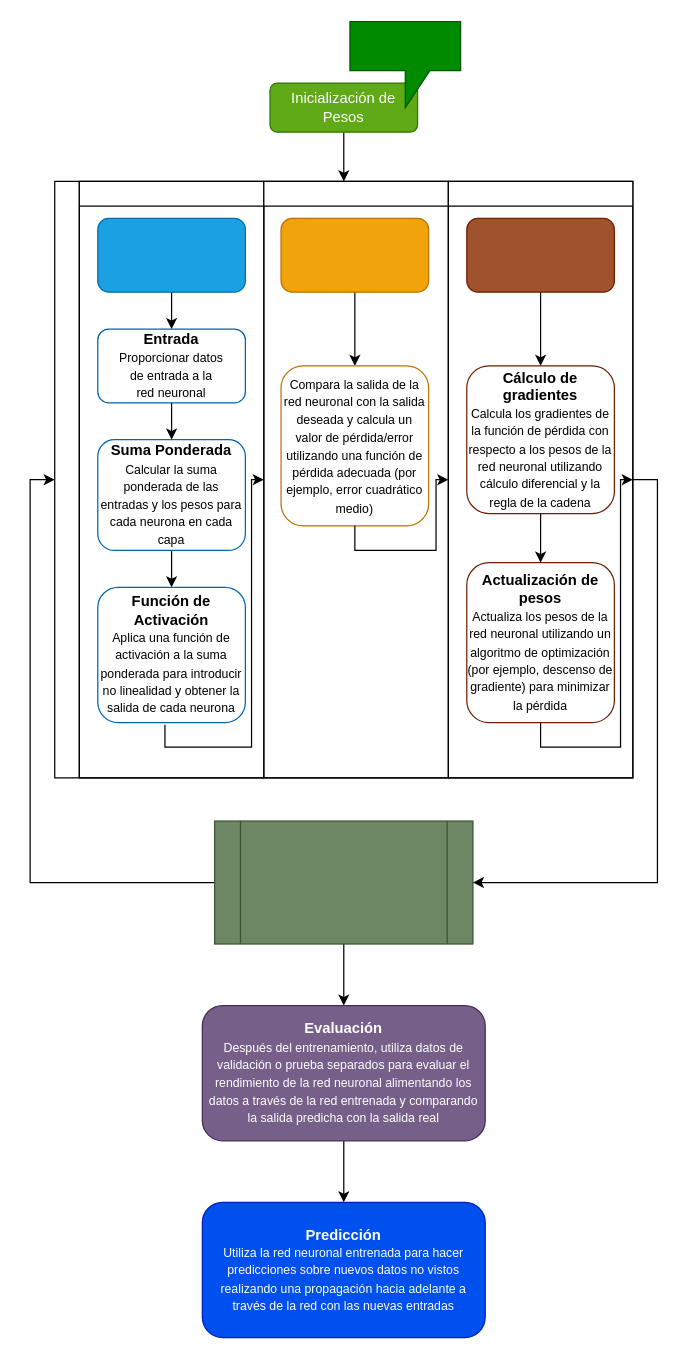
Some shapes in this 689 by 1359 pixel diagram are drawn without their labels. The shapes that lost their labels are listed below. From the top down, each one's box as (x1, y1, x2, y2) in pixels, then its label:
(349, 20, 461, 108): Valores aleatorios
(97, 217, 245, 292): Propagación hacia Adelante
(280, 217, 429, 292): Cálculo de Pérdida
(466, 217, 614, 292): Retropropagación
(213, 820, 473, 944): Iterar durante un número especificado de épocas o hasta la convergencia
